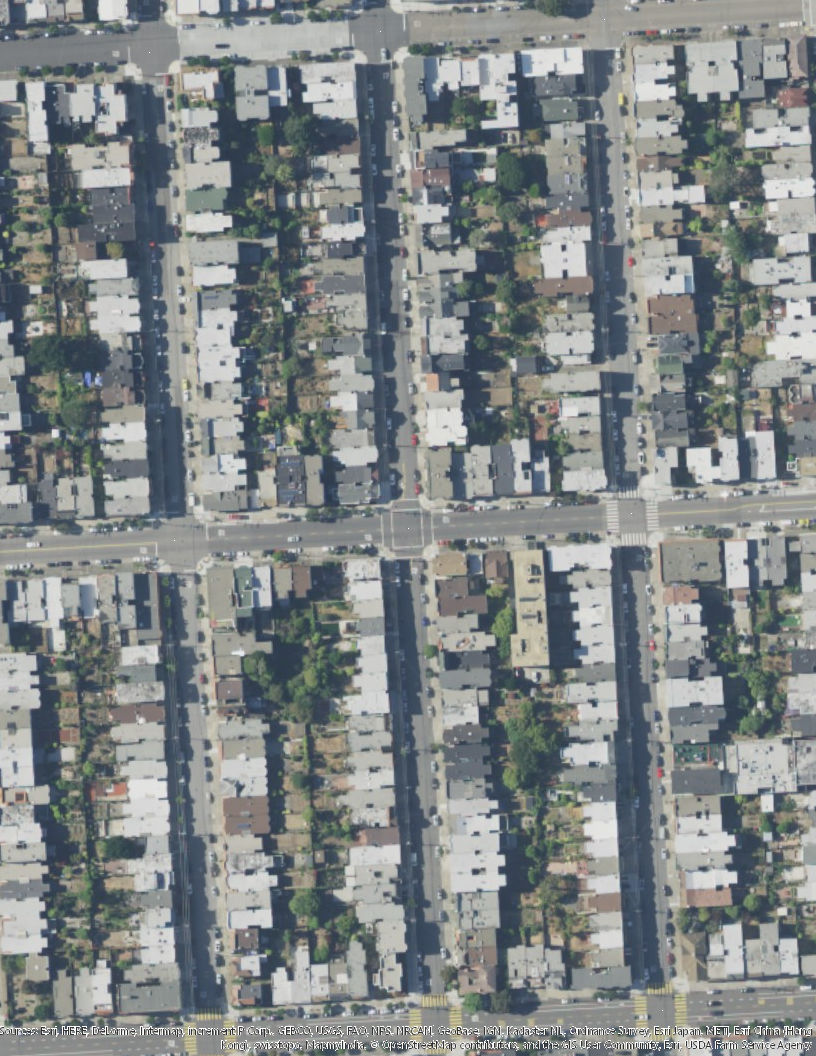zebracross: (604, 499, 621, 533), (197, 1007, 225, 1022), (634, 997, 648, 1027), (422, 993, 454, 1006), (645, 500, 659, 529), (672, 996, 685, 1027), (647, 981, 672, 996), (623, 533, 647, 546), (619, 485, 641, 499), (182, 1036, 197, 1056), (410, 1009, 421, 1024), (451, 1009, 461, 1025)
